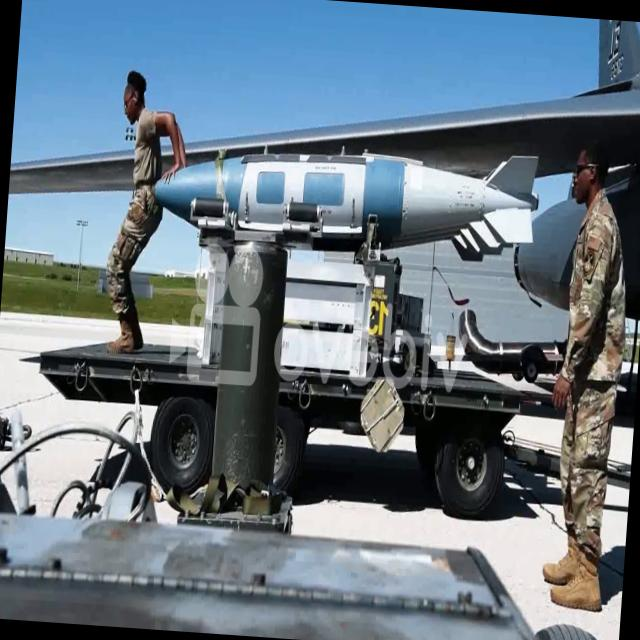rocket: (146, 118, 542, 259)
